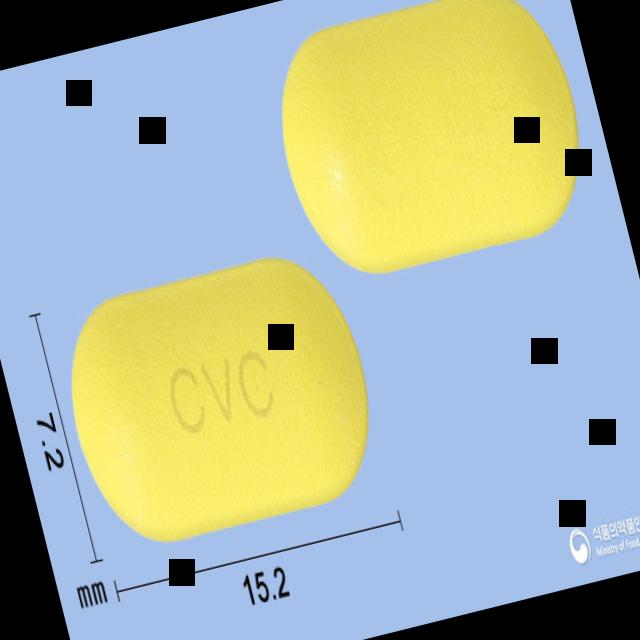CLARITYNE: (47, 240, 391, 556), (258, 0, 603, 287)
